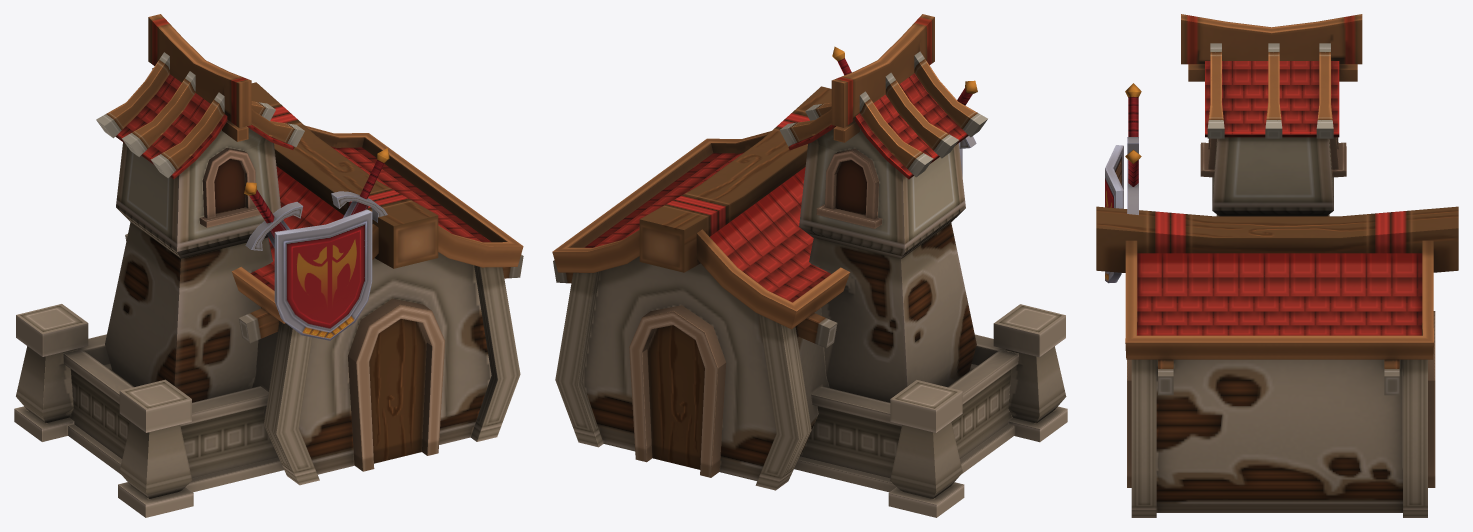
Rendered from Barrack_Level3_F.FBX.
3 views of the same model, side by side, from view 1: azimuth 30°, elevation 25°; view 2: azimuth 150°, elevation 25°; view 3: azimuth 270°, elevation 25° (orthographic).
Parts seen in each view (by area): view 1: Barrack_Level004, Barrack_Shield003; view 2: Barrack_Level004, Barrack_Shield003; view 3: Barrack_Level004, Barrack_Shield003.
Boxes of the visible parts, left/top/right/bottom form: Barrack_Level004: left=14, top=14, right=523, bottom=517; Barrack_Shield003: left=244, top=148, right=389, bottom=340; Barrack_Level004: left=552, top=14, right=1067, bottom=517; Barrack_Shield003: left=832, top=46, right=977, bottom=176; Barrack_Level004: left=1096, top=14, right=1458, bottom=517; Barrack_Shield003: left=1105, top=83, right=1141, bottom=283.
Bounding box in the file's own units: 88.15 × 85.59 × 71.94.
